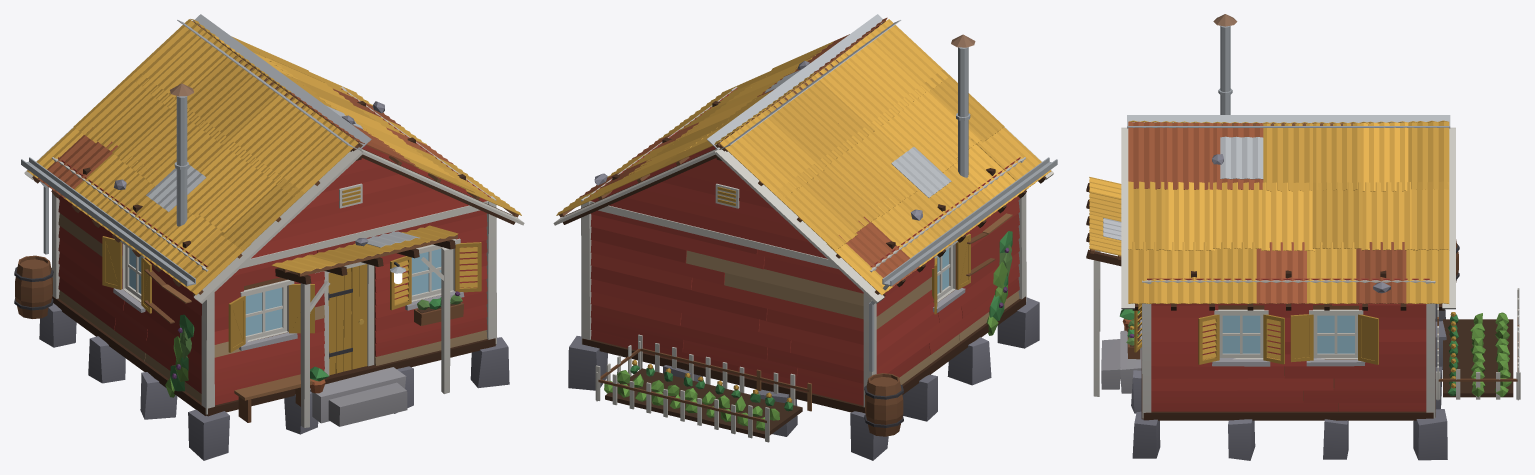
The picture shows the model from 3 angles, left to right: view 1: azimuth 30°, elevation 25°; view 2: azimuth 150°, elevation 25°; view 3: azimuth 270°, elevation 25°; orthographic projection. The views are drawn at different scales.
Visible parts, largest first — view 1: H12_ROOF, H12_WALL_E, H12_WALL_S, H12_BASE, H12_DOOR_main, H12_WALL_N; view 2: H12_ROOF, H12_WALL_W, H12_WALL_S, H12_BASE, H12_WALL_N; view 3: H12_ROOF, H12_WALL_N, H12_BASE, H12_WALL_W, H12_WALL_E.
Boxes of the visible parts, x1,y1,x2,y2 form: H12_ROOF: [24, 14, 524, 303]; H12_WALL_E: [202, 133, 496, 427]; H12_WALL_S: [14, 157, 207, 414]; H12_BASE: [39, 296, 509, 460]; H12_DOOR_main: [328, 264, 367, 375]; H12_WALL_N: [341, 86, 496, 343]; H12_ROOF: [553, 14, 1053, 303]; H12_WALL_W: [581, 133, 875, 442]; H12_WALL_S: [864, 157, 1057, 436]; H12_BASE: [568, 296, 1039, 460]; H12_WALL_N: [581, 88, 737, 339]; H12_ROOF: [1121, 14, 1455, 310]; H12_WALL_N: [1142, 278, 1435, 418]; H12_BASE: [1101, 304, 1447, 460]; H12_WALL_W: [1426, 281, 1520, 400]; H12_WALL_E: [1086, 177, 1148, 418].
Size of the model in its own units: 6.04 by 5.67 by 7.03.
